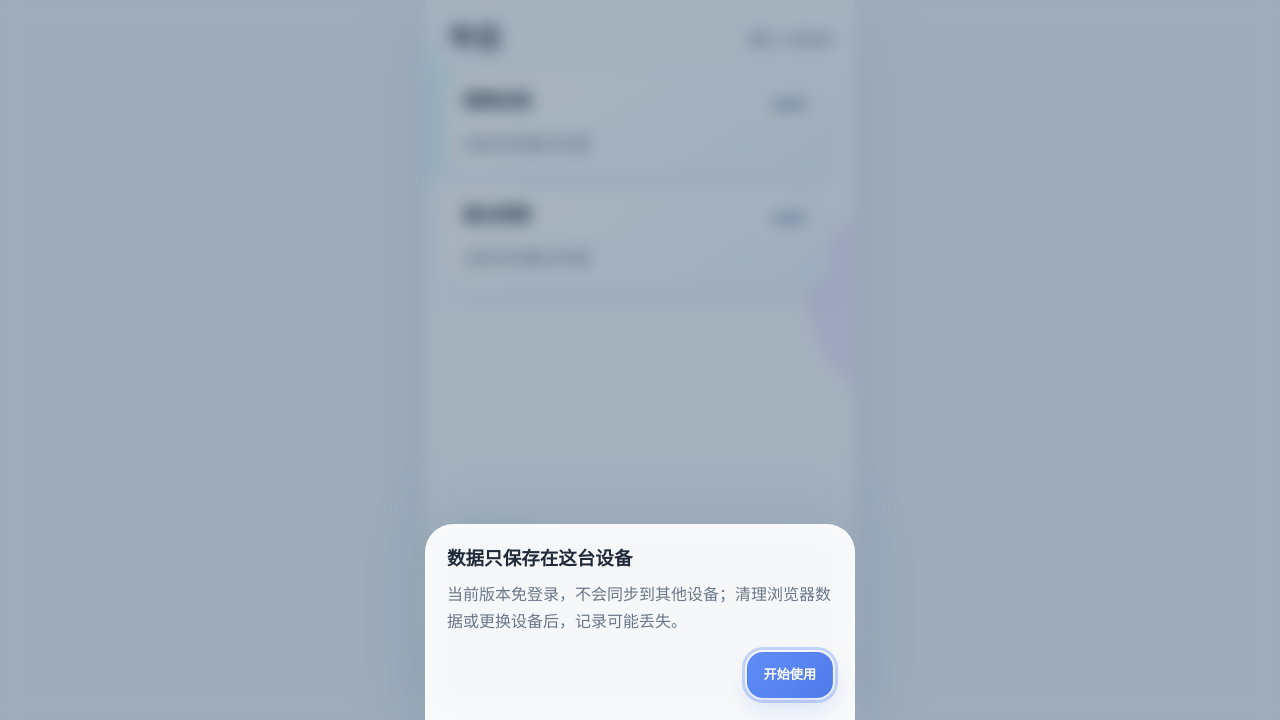
Test: App routes › shows and persists the local data notice before normal use
Check: the dialog "数据只保存在这台设备" is shown, box [425,524,855,719]
Click the button "开始使用".
click(790, 675)  # box [746,652,833,698]
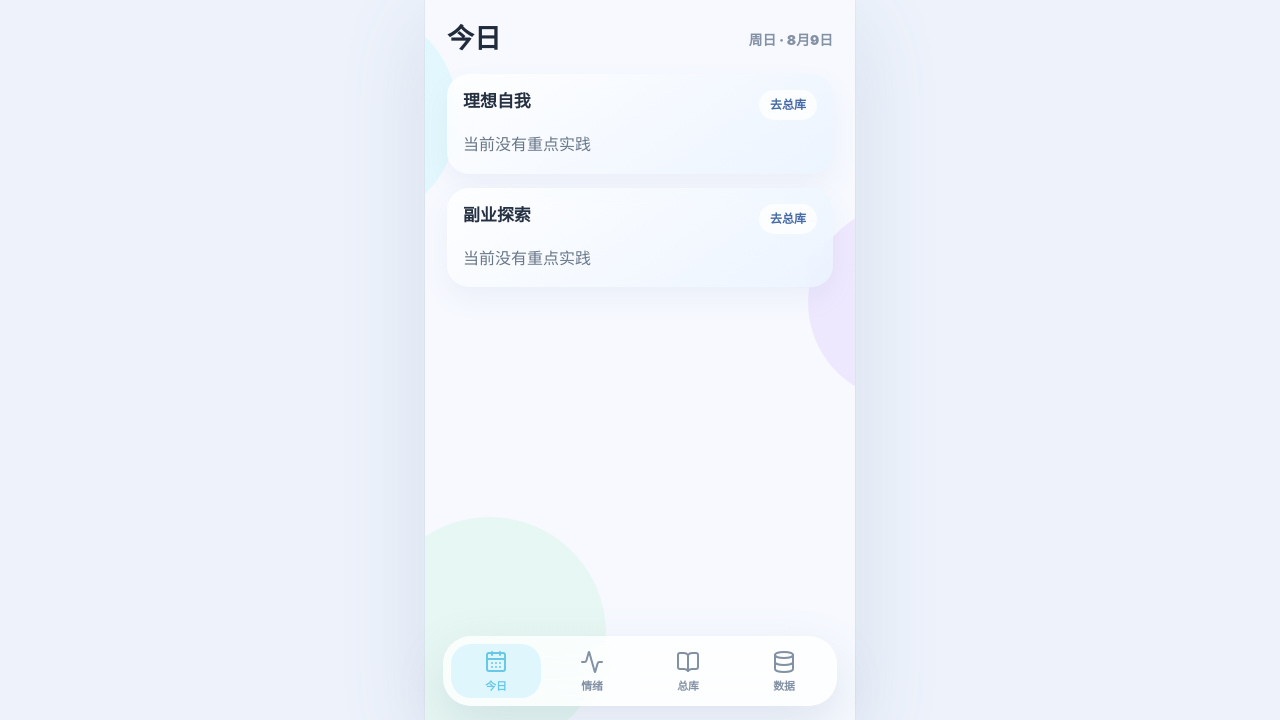
Check: the dialog is gone
